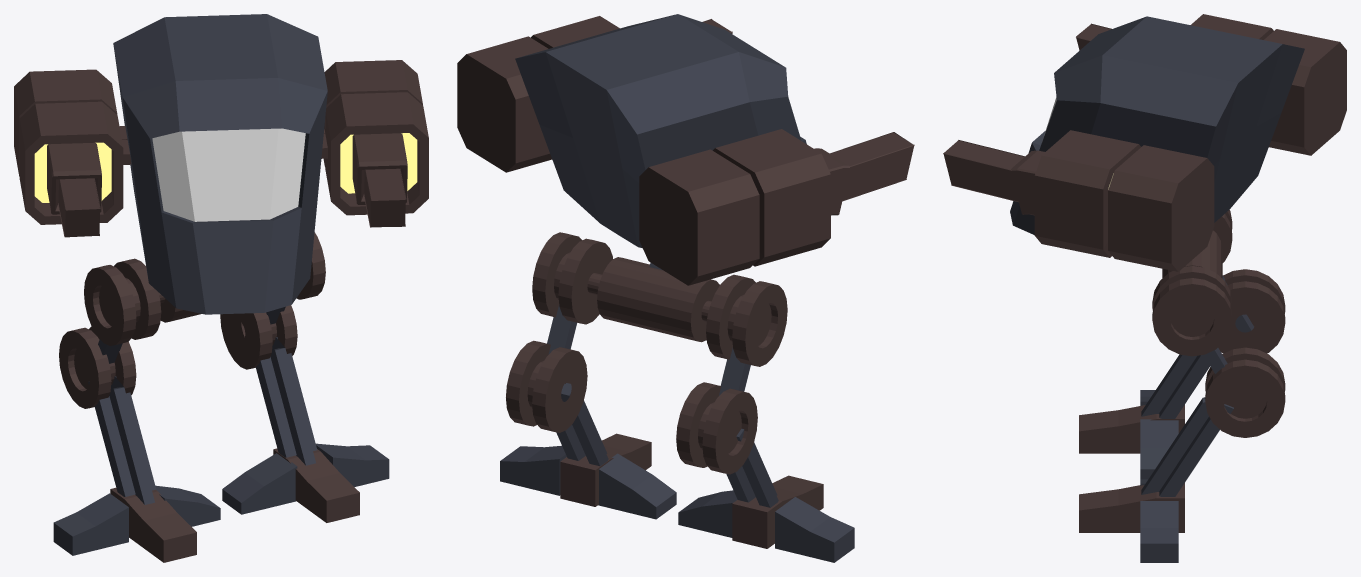
The model's file is Mech3.glb.
The picture shows the model from 3 angles, left to right: view 1: azimuth 30°, elevation 25°; view 2: azimuth 150°, elevation 25°; view 3: azimuth 270°, elevation 25°; orthographic projection. The views are drawn at different scales.
Visible parts, largest first — view 1: Cube, Cube.007, Cube.003, Cylinder.001, Cube.004, Cylinder, Cube.005, Cube.006; view 2: Cube.007, Cube, Cylinder, Cylinder.001, Cube.005, Cube.004, Cube.006, Cube.003, Cube.002; view 3: Cube.007, Cube, Cylinder.001, Cylinder, Cube.004, Cube.003, Cube.005, Cube.006, Cube.002.
Boxes of the visible parts, x1,y1,x2,y2 form: Cube: [113, 14, 327, 314]; Cube.007: [14, 60, 428, 237]; Cube.003: [88, 337, 317, 504]; Cylinder.001: [59, 305, 297, 408]; Cube.004: [110, 448, 359, 562]; Cylinder: [84, 232, 325, 345]; Cube.005: [53, 443, 389, 555]; Cube.006: [155, 453, 297, 526]; Cube.007: [457, 16, 914, 285]; Cube: [515, 14, 806, 248]; Cylinder: [532, 232, 787, 366]; Cylinder.001: [506, 340, 757, 474]; Cube.005: [500, 445, 854, 562]; Cube.004: [560, 433, 823, 548]; Cube.006: [598, 453, 737, 537]; Cube.003: [556, 383, 778, 507]; Cube.002: [547, 304, 750, 395]; Cube.007: [943, 14, 1346, 271]; Cube: [1010, 16, 1304, 234]; Cylinder.001: [1205, 269, 1285, 437]; Cylinder: [1152, 210, 1232, 356]; Cube.004: [1079, 405, 1184, 532]; Cube.003: [1141, 354, 1233, 496]; Cube.005: [1140, 390, 1178, 562]; Cube.006: [1140, 419, 1178, 485]; Cube.002: [1203, 275, 1253, 373].
Size of what is drawn, in the model's own units: 4.41 by 4.79 by 3.94.
